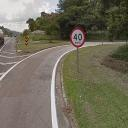speed_limit_40: (70, 26, 85, 48)
